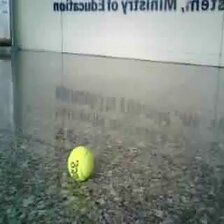tennis: (67, 146, 95, 181)
